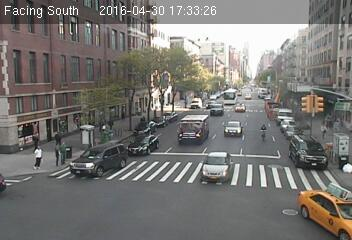neg: (35, 186, 62, 221), (79, 116, 104, 149), (274, 180, 297, 211), (169, 187, 192, 217), (92, 163, 113, 190), (71, 69, 91, 97), (124, 110, 144, 137), (187, 115, 207, 142), (312, 146, 331, 172), (143, 82, 162, 107), (114, 62, 133, 87), (210, 72, 228, 96), (256, 120, 274, 143), (43, 62, 60, 85), (208, 158, 225, 181), (243, 97, 260, 119), (283, 42, 298, 63), (305, 87, 320, 107), (167, 41, 182, 61), (335, 130, 348, 146), (116, 33, 128, 49)
pos: (27, 141, 48, 168), (57, 139, 75, 163), (48, 144, 64, 165), (318, 121, 331, 137)
